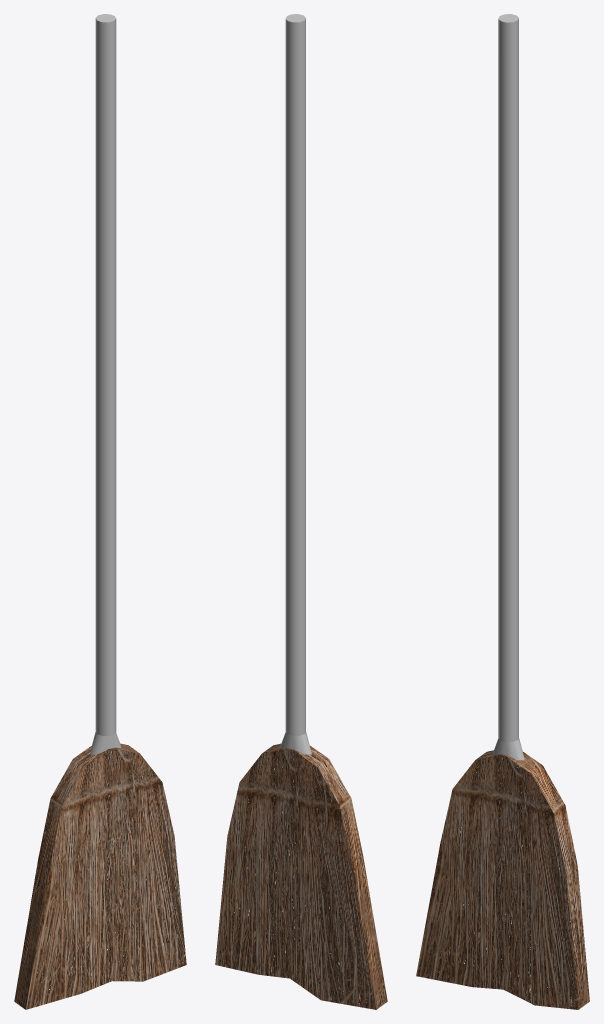
The model's file is Broom.FBX.
3 views of the same model, side by side, from view 1: azimuth 30°, elevation 25°; view 2: azimuth 150°, elevation 25°; view 3: azimuth 330°, elevation 25° (orthographic).
Parts seen in each view (by area): view 1: Broom; view 2: Broom; view 3: Broom.
Boxes of the visible parts, x1,y1,x2,y2 form: Broom: (14,14,186,1009); Broom: (215,14,387,1009); Broom: (416,14,589,1009).
Size of the model in its own units: 36.08 by 208 by 4.44.
